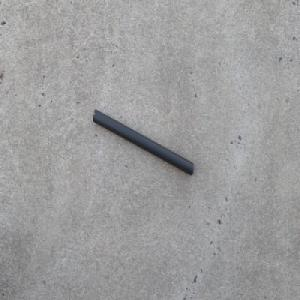LuggagePart: (91, 107, 194, 175)
